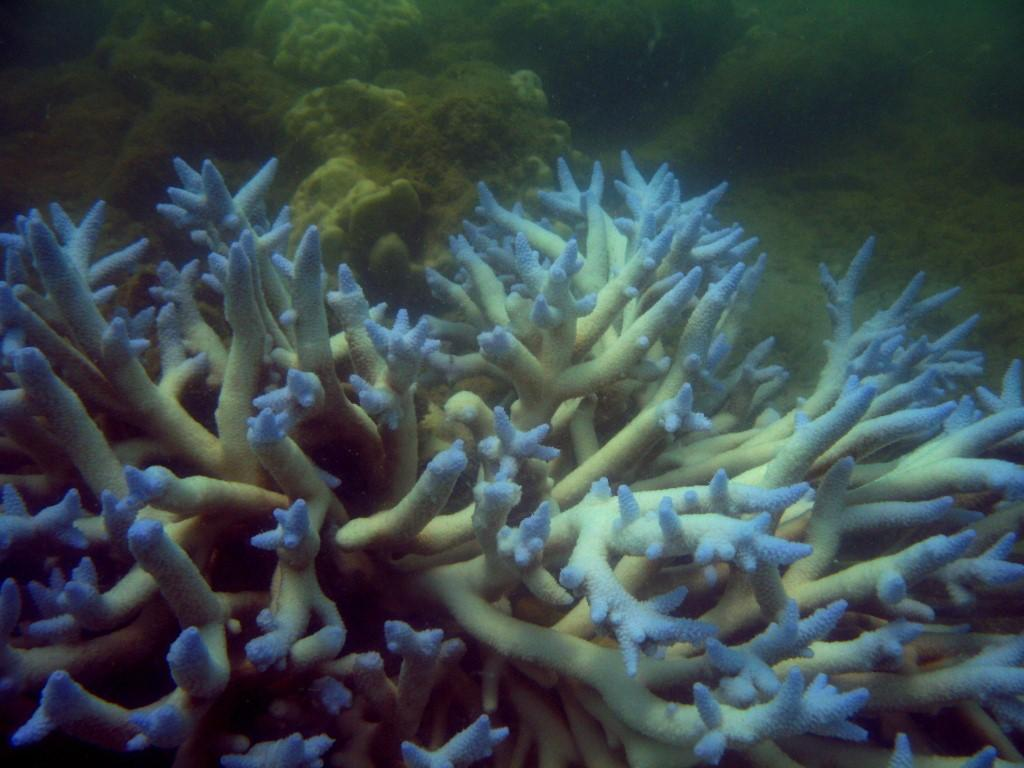bleached_corals: (0, 154, 1024, 768)
